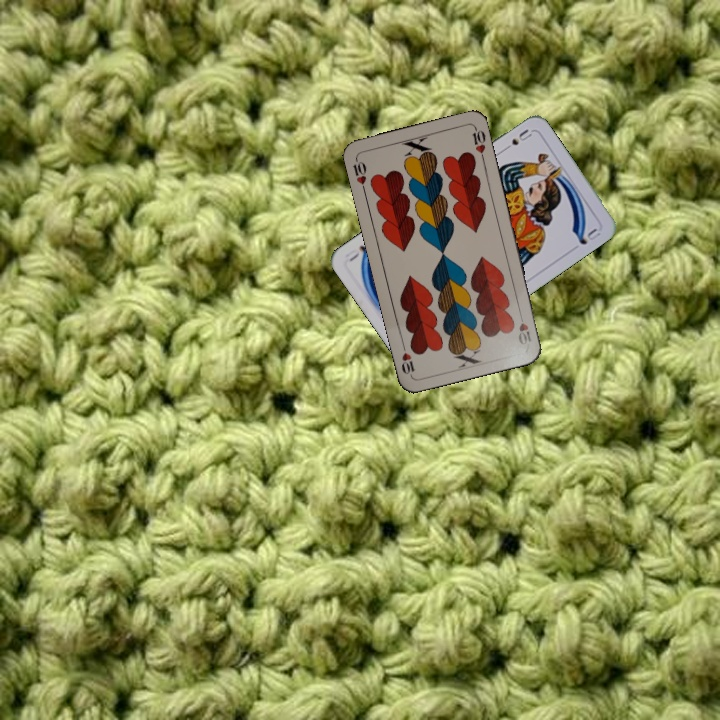H10: (349, 154, 369, 194), (515, 308, 534, 347)
SU: (498, 125, 535, 154)
